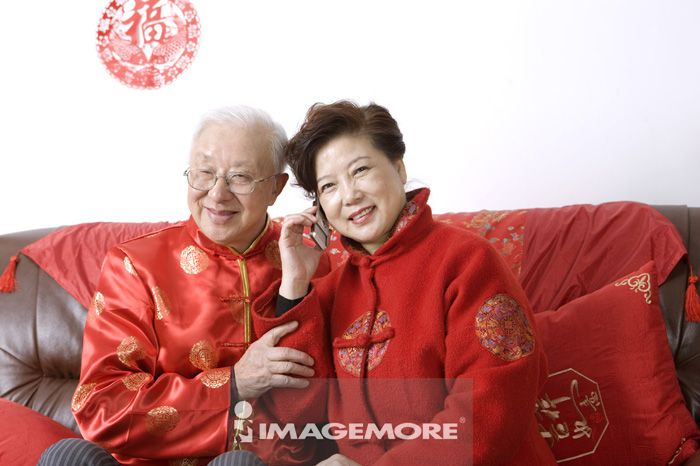talk: (275, 154, 381, 291)
